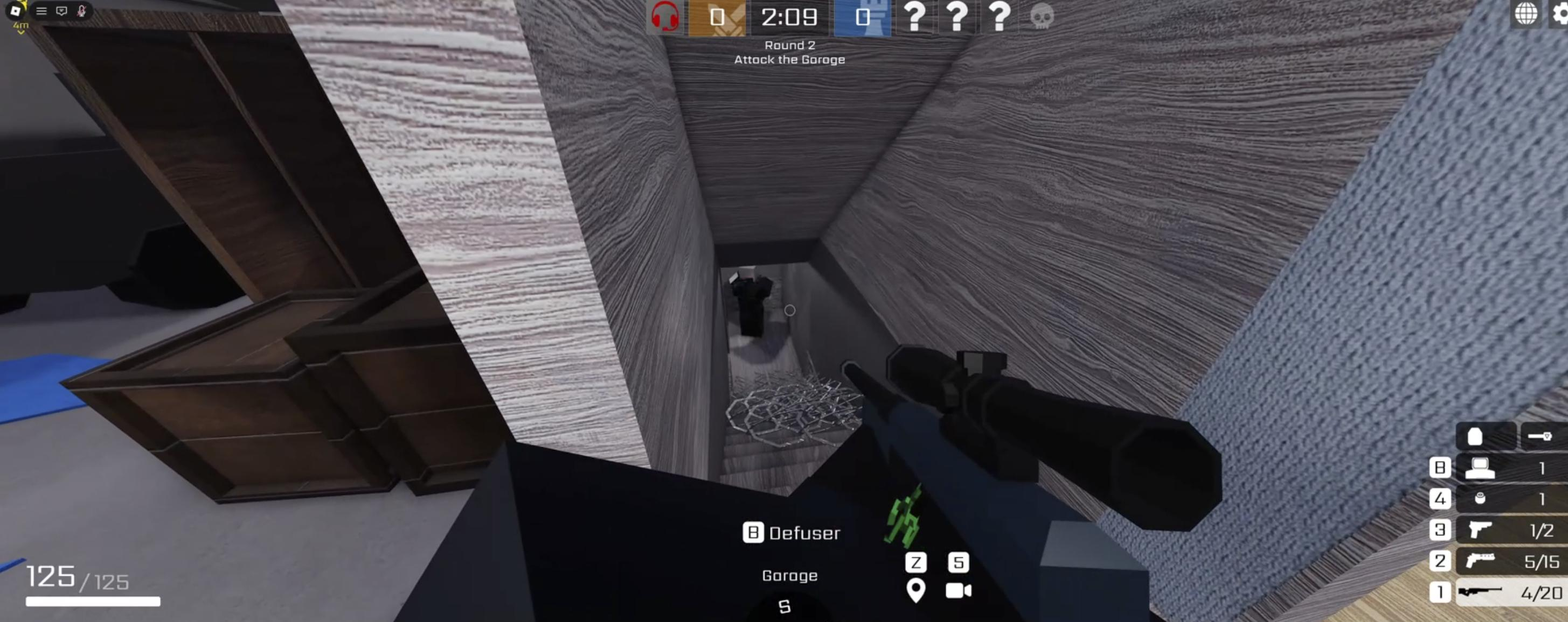enemy: (724, 256, 784, 343)
